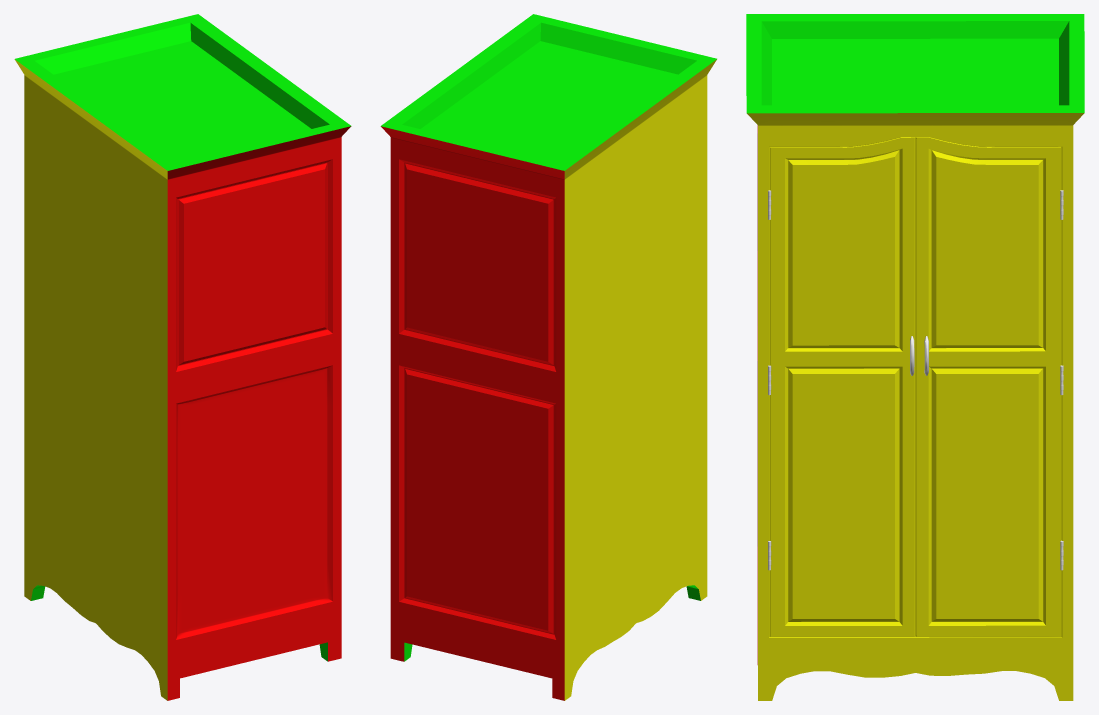
File: Cupboard.fbx
The picture shows the model from 3 angles, left to right: view 1: azimuth 30°, elevation 25°; view 2: azimuth 150°, elevation 25°; view 3: azimuth 270°, elevation 25°; orthographic projection. The views are drawn at different scales.
Visible parts, largest first — view 1: body; view 2: body; view 3: body.
Part boxes in pixels (bbox=[...]): body: bbox=[14, 14, 351, 700]; body: bbox=[380, 14, 716, 700]; body: bbox=[746, 14, 1084, 700].
Size of the model in its own units: 3.06 by 8.25 by 4.28.
